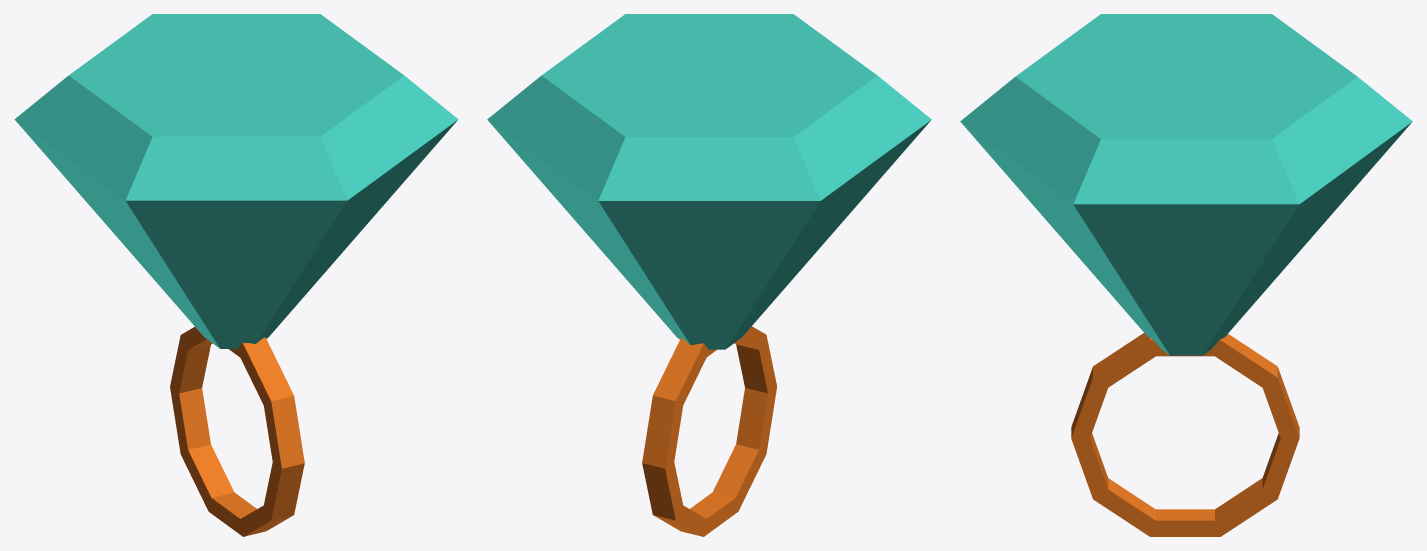
Rendered from ring.fbx.
The picture shows the model from 3 angles, left to right: view 1: azimuth 30°, elevation 25°; view 2: azimuth 150°, elevation 25°; view 3: azimuth 270°, elevation 25°; orthographic projection.
Visible parts, largest first — view 1: Cylinder.016; view 2: Cylinder.016; view 3: Cylinder.016.
Part boxes in pixels (left/top/right/bottom): Cylinder.016: left=14, top=14, right=458, bottom=536; Cylinder.016: left=487, top=14, right=931, bottom=536; Cylinder.016: left=960, top=14, right=1412, bottom=536.
Bounding box in the file's own units: 19.75 × 25.27 × 22.81.
